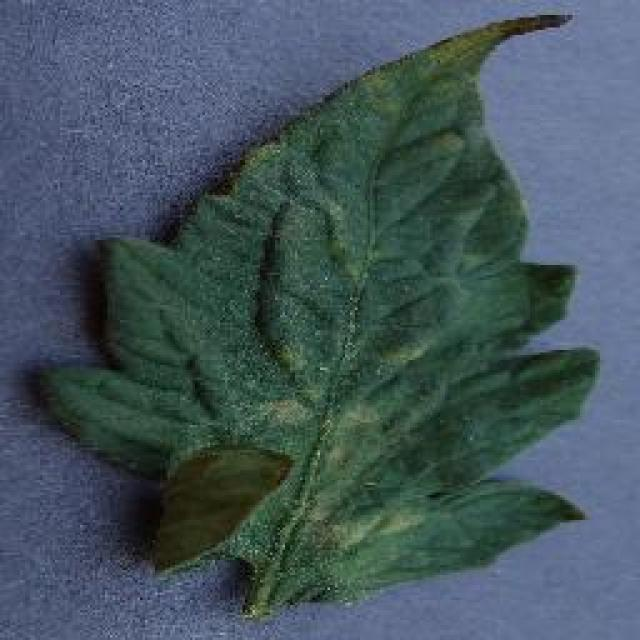Tom_Leaf_Mold: (241, 334, 421, 556)
